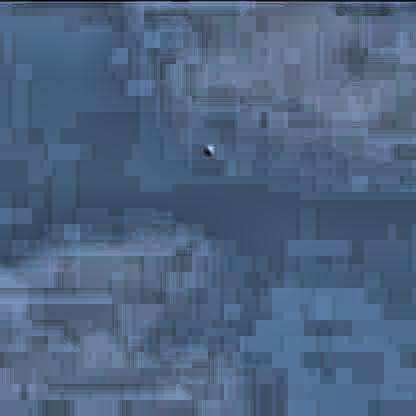golfball: (201, 141, 212, 152)
